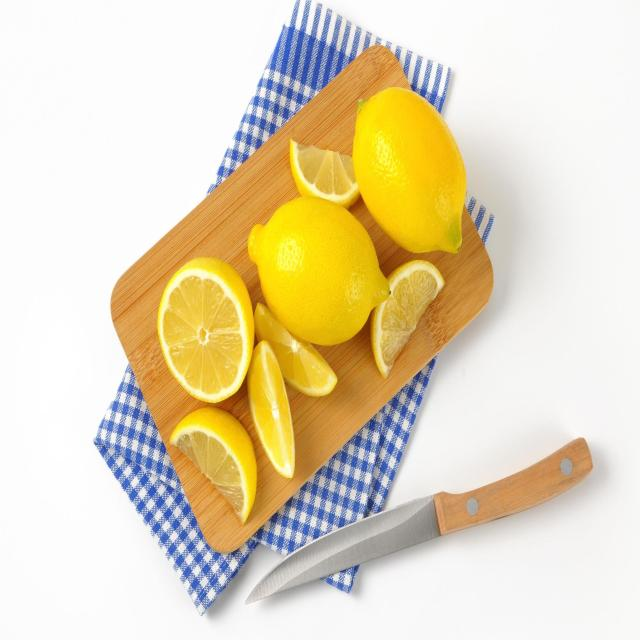lemon: (246, 192, 392, 348), (350, 83, 467, 256), (154, 252, 256, 404), (167, 402, 258, 528)
